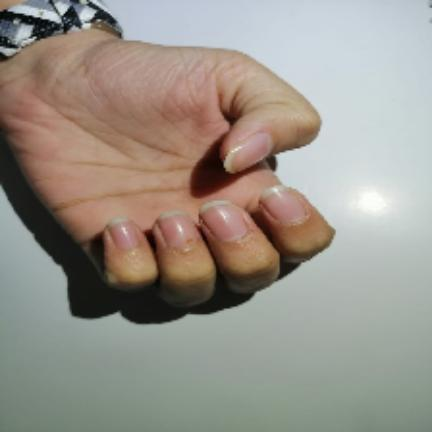Nail: (223, 132, 274, 175), (200, 200, 247, 241), (260, 185, 307, 224), (157, 210, 198, 249), (108, 216, 138, 250)
